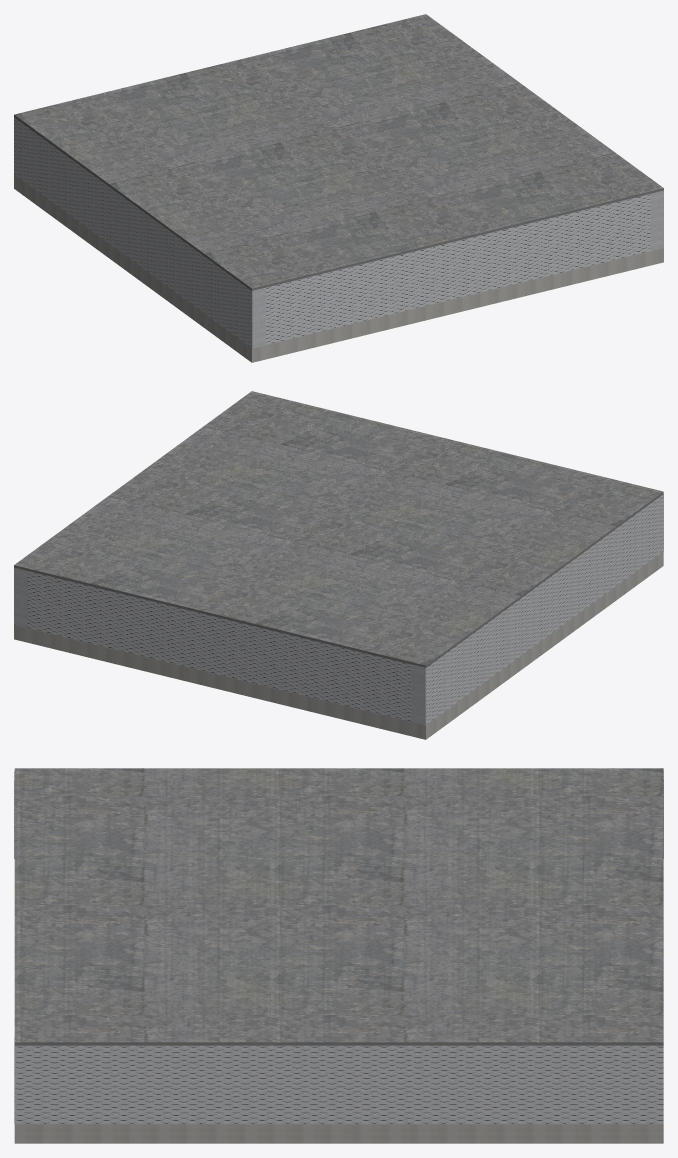
File: Flat3Texture.fbx
3 views of the same model, one above another, from view 1: azimuth 30°, elevation 25°; view 2: azimuth 150°, elevation 25°; view 3: azimuth 270°, elevation 25° (orthographic). The views are drawn at different scales.
Visible parts, largest first — view 1: pCube1, ExternalWallDown, ExternalWallLeft, Floor, ExternalWallRight; view 2: pCube1, ExternalWallUp, ExternalWallLeft, Floor, ExternalWallRight; view 3: pCube1, ExternalWallRight, Floor.
Boxes of the visible parts, x1,y1,x2,y2 form: pCube1: (14, 14, 663, 291); ExternalWallDown: (266, 194, 650, 344); ExternalWallLeft: (14, 117, 265, 348); Floor: (14, 174, 663, 362); ExternalWallRight: (650, 190, 663, 251); pCube1: (14, 391, 663, 667); ExternalWallUp: (27, 571, 411, 721); ExternalWallLeft: (412, 494, 663, 725); Floor: (14, 552, 663, 739); ExternalWallRight: (14, 567, 27, 628); pCube1: (14, 768, 663, 1046); ExternalWallRight: (14, 1037, 663, 1124); Floor: (14, 1124, 663, 1143).
Size of the model in its own units: 30 by 5.17 by 30.05.
Materials: 6 (6 with a texture image).
